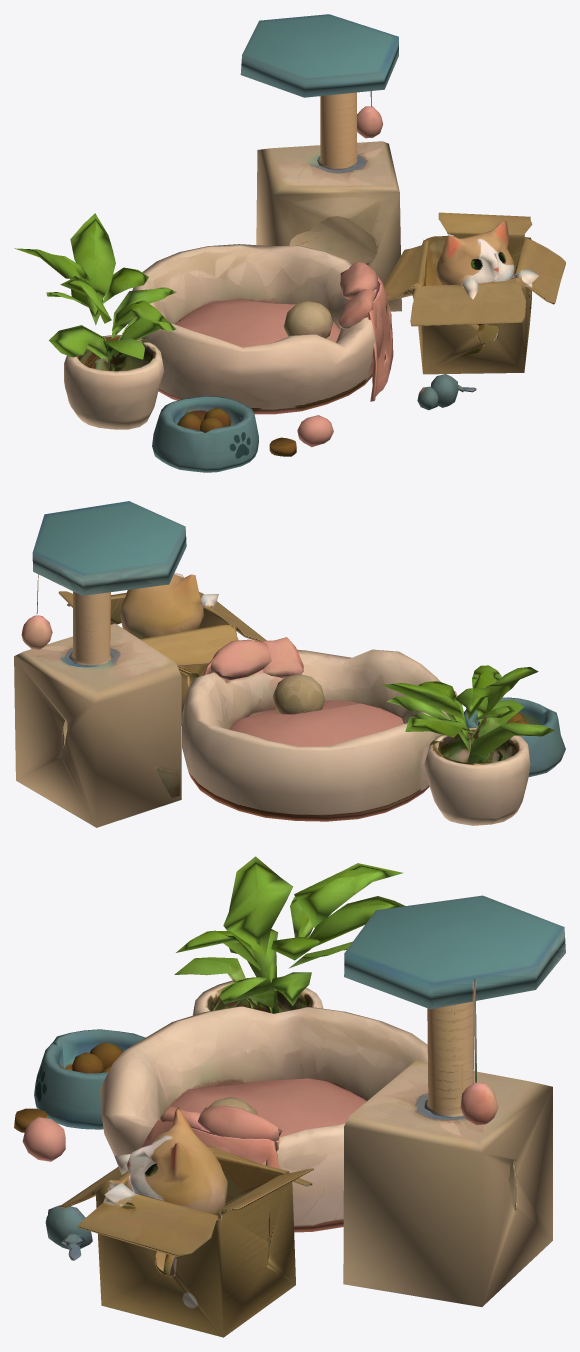
Rendered from cat.glb.
The picture shows the model from 3 angles, top to bottom: view 1: azimuth 30°, elevation 25°; view 2: azimuth 150°, elevation 25°; view 3: azimuth 270°, elevation 25°; orthographic projection. The views are drawn at different scales.
Parts seen in each view (by area): view 1: mesh_node; view 2: mesh_node; view 3: mesh_node.
Part boxes in pixels (x1,y1,x2,y2): mesh_node: (14, 14, 565, 472); mesh_node: (14, 501, 565, 827); mesh_node: (14, 856, 565, 1337).
Bounding box in the file's own units: 0.998 × 0.4902 × 0.752.
1 material, 1 textured.
